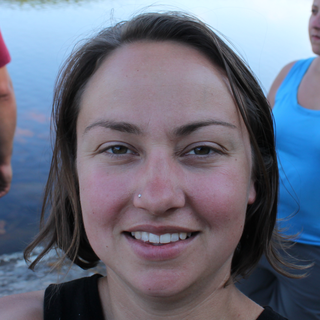eye: (175, 139, 228, 164), (93, 139, 143, 163)
